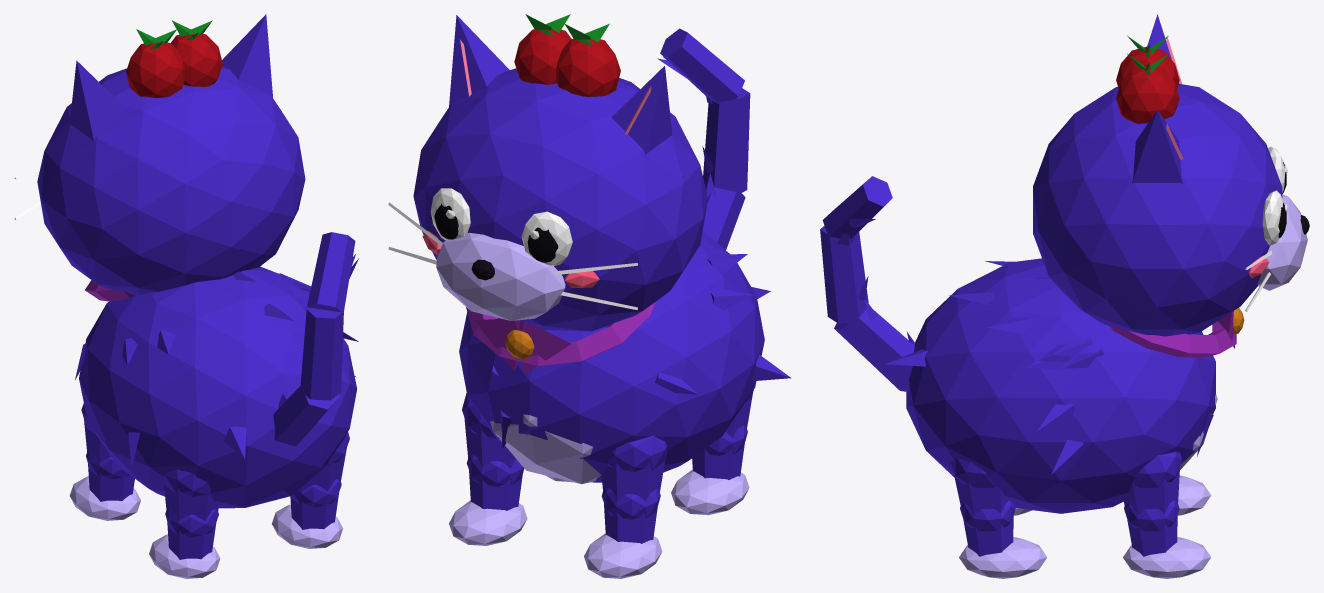
The model's file is grape_cat.obj.
3 renders of one model, left to right at view 1: azimuth 30°, elevation 25°; view 2: azimuth 150°, elevation 25°; view 3: azimuth 270°, elevation 25°, orthographic. The views are drawn at different scales.
Parts seen in each view (by area): view 1: Head_2_m4, Body_1_m1, Head_2_m27, Tail2_12_m25, Tail3_13_m26, Tail1_11_m24, Leg3Lo_8_m18, Leg3Up_7_m17, Leg4Lo_10_m21, Leg1Lo_4_m12, Leg3Lo_8_m19, Leg4Lo_10_m22 (+5 smaller); view 2: Head_2_m4, Body_1_m1, Head_2_m5, Head_2_m27, Body_1_m29, Tail2_12_m25, Body_1_m2, Head_2_m7, Tail3_13_m26, Leg1Up_3_m11, Leg2Lo_6_m16, Leg1Lo_4_m13 (+10 smaller); view 3: Body_1_m1, Head_2_m4, Head_2_m27, Tail2_12_m25, Tail1_11_m24, Body_1_m29, Leg2Up_5_m14, Tail3_13_m26, Leg4Lo_10_m22, Leg2Lo_6_m16, Head_2_m5, Leg2Lo_6_m15 (+5 smaller).
Boxes of the visible parts, bbox=[...] form: Head_2_m4: bbox=[37, 14, 305, 295]; Body_1_m1: bbox=[75, 266, 358, 508]; Head_2_m27: bbox=[126, 34, 222, 97]; Tail2_12_m25: bbox=[300, 307, 343, 400]; Tail3_13_m26: bbox=[307, 232, 358, 313]; Tail1_11_m24: bbox=[273, 386, 339, 446]; Leg3Lo_8_m18: bbox=[165, 508, 218, 559]; Leg3Up_7_m17: bbox=[164, 469, 219, 520]; Leg4Lo_10_m21: bbox=[290, 479, 341, 529]; Leg1Lo_4_m12: bbox=[86, 449, 134, 501]; Leg3Lo_8_m19: bbox=[149, 534, 220, 578]; Leg4Lo_10_m22: bbox=[272, 504, 343, 548]; Head_2_m4: bbox=[413, 15, 707, 331]; Body_1_m1: bbox=[459, 231, 791, 482]; Head_2_m5: bbox=[436, 232, 565, 320]; Head_2_m27: bbox=[514, 29, 620, 96]; Body_1_m29: bbox=[466, 302, 655, 373]; Tail2_12_m25: bbox=[702, 88, 750, 192]; Body_1_m2: bbox=[490, 414, 601, 484]; Head_2_m7: bbox=[388, 188, 637, 310]; Tail3_13_m26: bbox=[657, 28, 744, 103]; Leg1Up_3_m11: bbox=[601, 435, 667, 501]; Leg2Lo_6_m16: bbox=[449, 500, 527, 545]; Leg1Lo_4_m13: bbox=[584, 533, 662, 578]; Body_1_m1: bbox=[884, 258, 1215, 513]; Head_2_m4: bbox=[1033, 14, 1282, 336]; Head_2_m27: bbox=[1116, 46, 1179, 123]; Tail2_12_m25: bbox=[820, 226, 868, 323]; Tail1_11_m24: bbox=[834, 299, 915, 391]; Body_1_m29: bbox=[1109, 311, 1236, 357]; Leg2Up_5_m14: bbox=[1123, 451, 1182, 514]; Tail3_13_m26: bbox=[822, 176, 892, 239]; Leg4Lo_10_m22: bbox=[959, 537, 1047, 578]; Leg2Lo_6_m16: bbox=[1123, 537, 1210, 578]; Head_2_m5: bbox=[1257, 194, 1307, 290]; Leg2Lo_6_m15: bbox=[1124, 500, 1179, 556].
Bounding box in the file's own units: 1.6 × 2.82 × 2.54.
